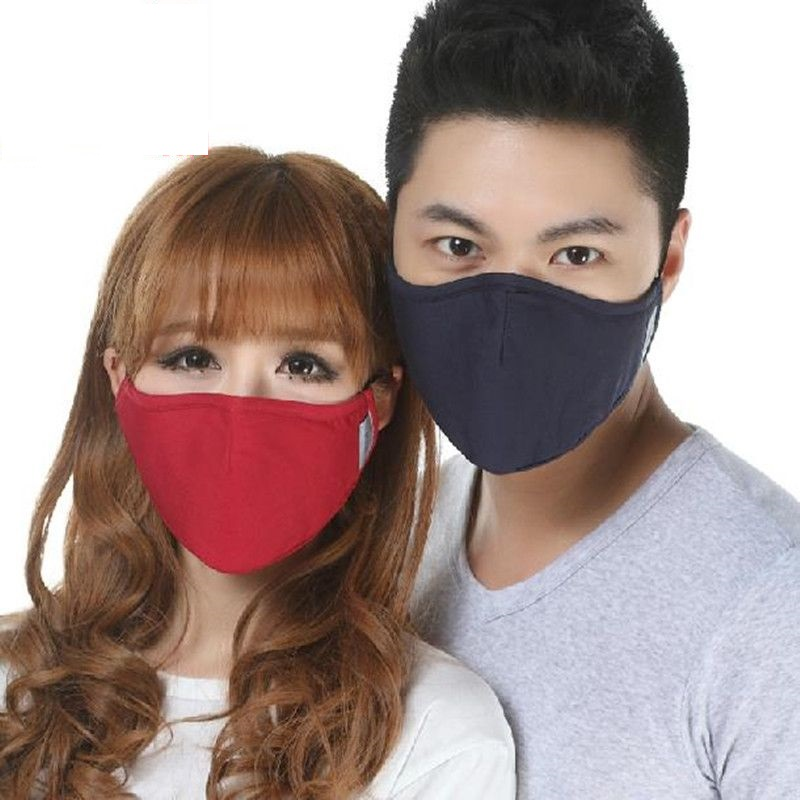face_mask: (392, 108, 656, 456), (125, 251, 368, 557)
